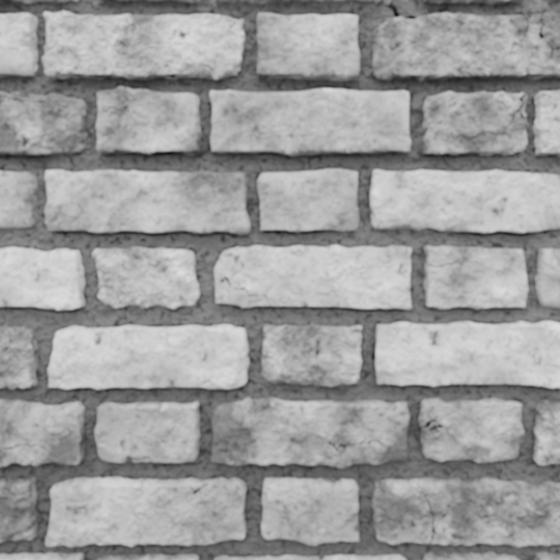brick: (42, 11, 243, 79), (46, 477, 244, 546), (212, 398, 407, 468), (210, 89, 409, 154), (45, 170, 249, 233), (372, 478, 559, 546), (372, 13, 559, 80), (48, 325, 247, 387), (214, 245, 409, 307), (375, 321, 559, 386), (370, 170, 559, 231), (96, 87, 201, 154), (257, 13, 357, 80), (418, 398, 522, 461), (261, 478, 357, 544), (424, 246, 526, 308), (423, 91, 525, 153), (92, 247, 197, 307), (95, 401, 197, 461), (258, 169, 357, 230), (262, 325, 360, 385), (0, 399, 82, 465), (0, 92, 85, 154), (0, 247, 83, 308), (0, 326, 37, 388), (0, 13, 36, 76), (0, 478, 36, 540), (0, 171, 37, 226), (533, 90, 559, 154), (534, 400, 559, 464), (535, 249, 559, 306), (214, 555, 404, 559), (424, 552, 517, 559), (543, 12, 559, 46), (0, 553, 82, 559), (98, 554, 196, 559), (424, 0, 519, 2), (535, 552, 559, 559), (0, 0, 68, 2), (179, 0, 195, 1)
broken_brick: (212, 0, 379, 3), (546, 0, 558, 1)
crack: (219, 259, 270, 305), (538, 2, 559, 59), (419, 414, 456, 442), (508, 12, 531, 56), (423, 492, 438, 543), (379, 0, 415, 20), (506, 92, 526, 127), (0, 93, 45, 103), (537, 444, 548, 465), (44, 61, 67, 69)
